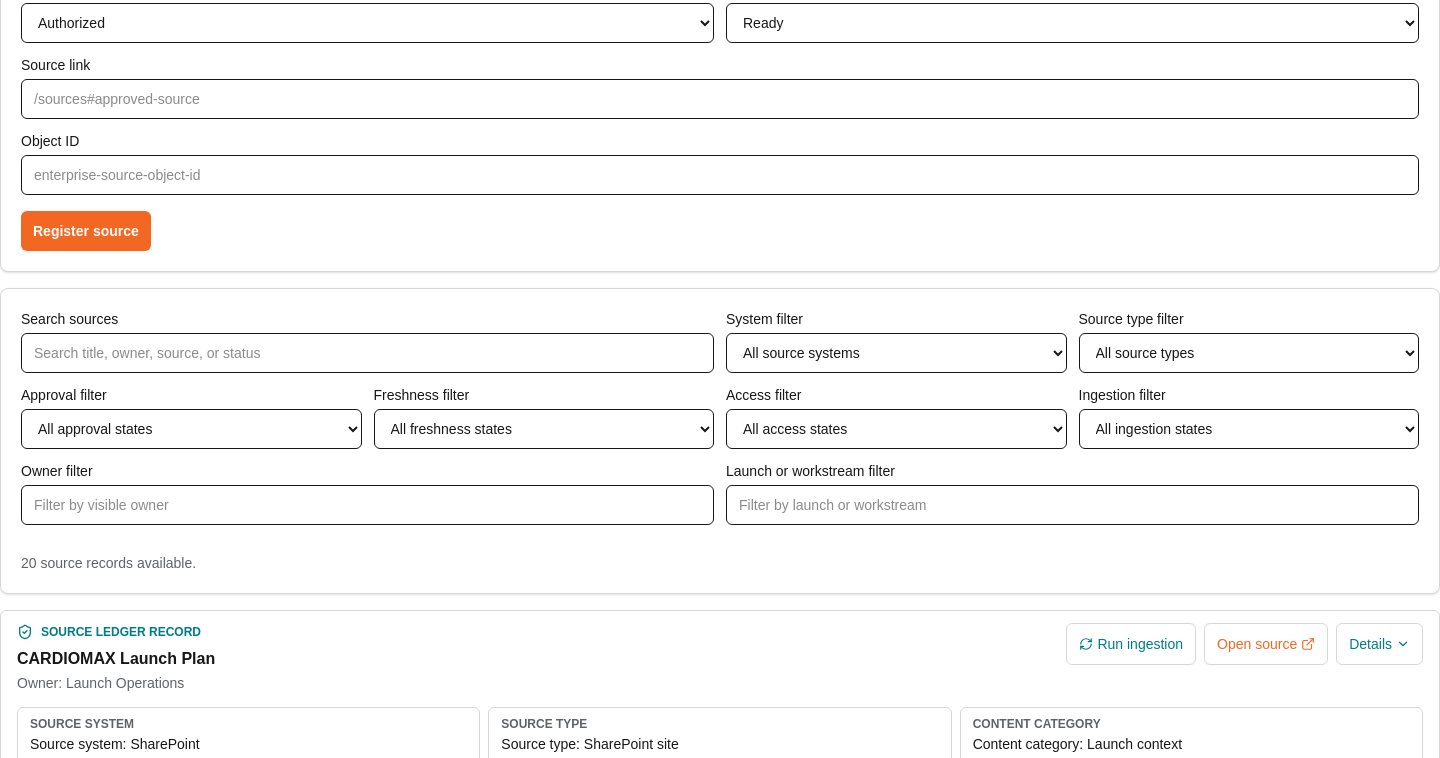
Scenario: SourceLedgerPanel › explains no-match impact searches separately from approved-source gaps
(page scrolled)
Step 1. Type "changed pricing phrase" into the search field labelled "Search sources" → (368, 353), box top-left (21, 333), bottom-right (714, 373)
(page scrolled)
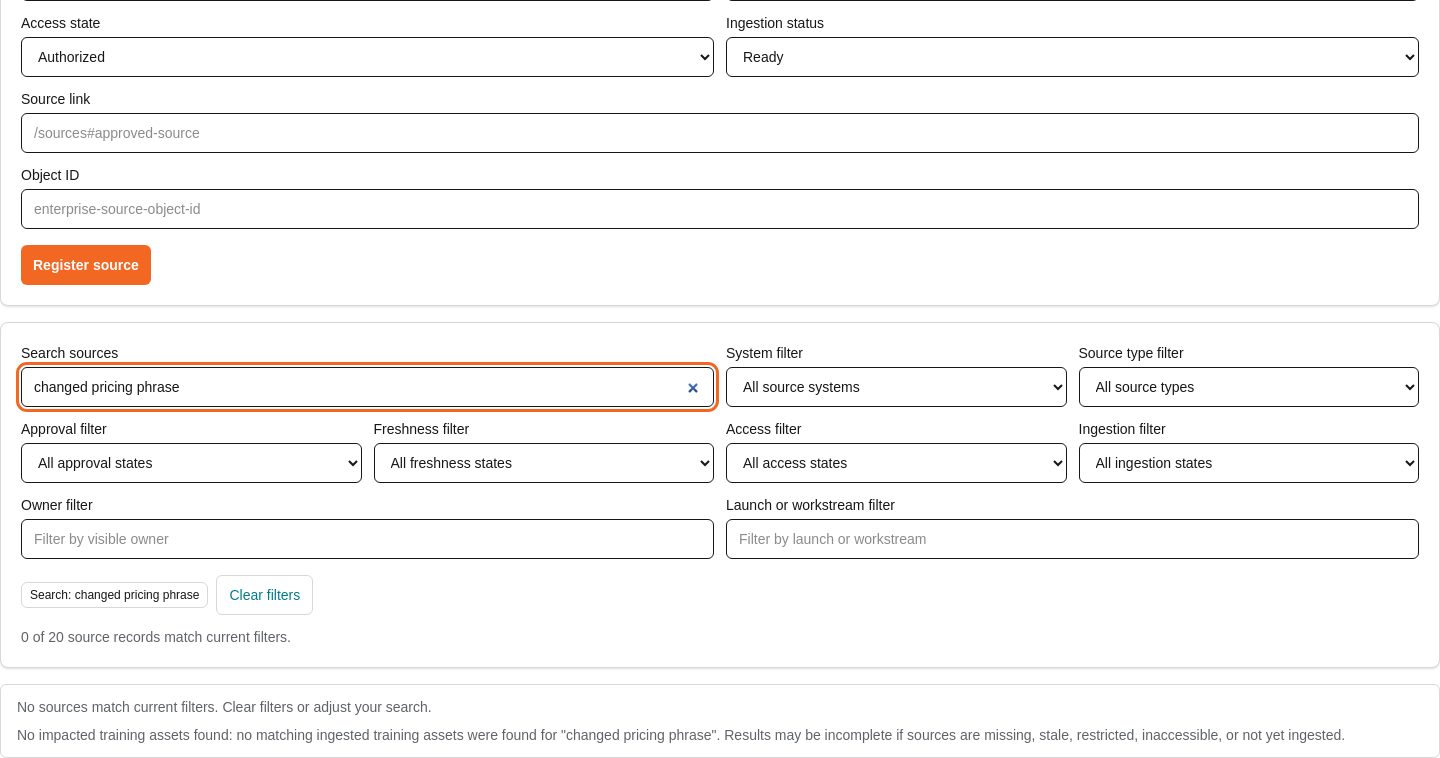
Expected: the text "not yet ingested" is shown, top-left (17, 727), bottom-right (1345, 743)
